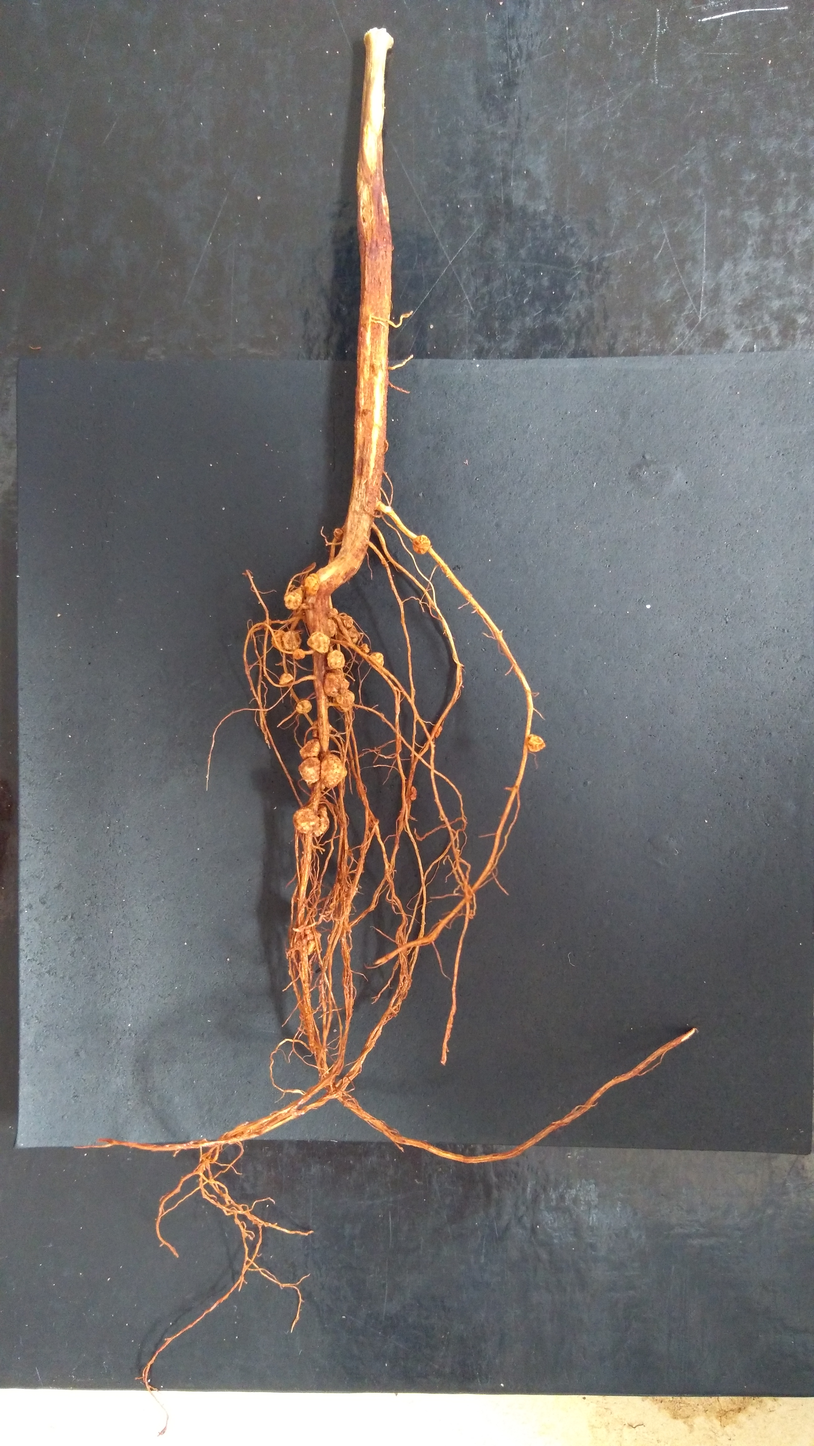nodule: (318, 752, 350, 792), (290, 806, 321, 835), (294, 756, 321, 786), (322, 669, 351, 696), (306, 630, 331, 655), (331, 689, 356, 713), (283, 587, 305, 613), (269, 628, 289, 656), (297, 738, 322, 760), (316, 804, 332, 838), (282, 628, 303, 652), (311, 719, 333, 741), (325, 649, 348, 670), (410, 534, 431, 556), (303, 573, 321, 598), (526, 733, 547, 753), (295, 698, 313, 716), (367, 651, 385, 668), (326, 617, 338, 639), (348, 624, 360, 646), (278, 671, 294, 686), (291, 648, 307, 661), (342, 614, 354, 630), (409, 784, 419, 802), (307, 938, 318, 954), (332, 527, 343, 541), (435, 725, 443, 739), (328, 606, 338, 617), (360, 643, 370, 653), (306, 932, 315, 940), (314, 931, 322, 940), (304, 928, 312, 934)
